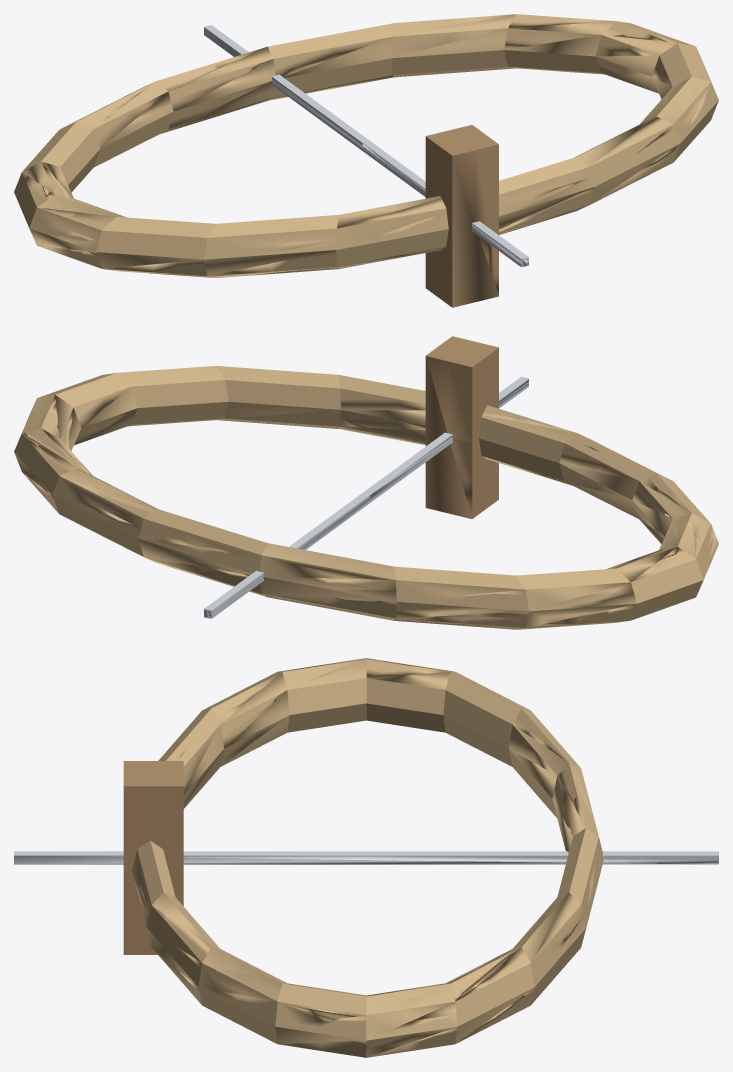
Rendered from bow.glb.
3 views of the same model, one above another, from view 1: azimuth 30°, elevation 25°; view 2: azimuth 150°, elevation 25°; view 3: azimuth 270°, elevation 25° (orthographic). The views are drawn at different scales.
Parts seen in each view (by area): view 1: BowCurve; view 2: BowCurve; view 3: BowCurve.
Part boxes in pixels (x1,y1,x2,y2): BowCurve: (14,14,718,307); BowCurve: (14,336,718,629); BowCurve: (14,658,718,1057).
Bounding box in the file's own units: 1.3 × 0.28 × 1.06.
